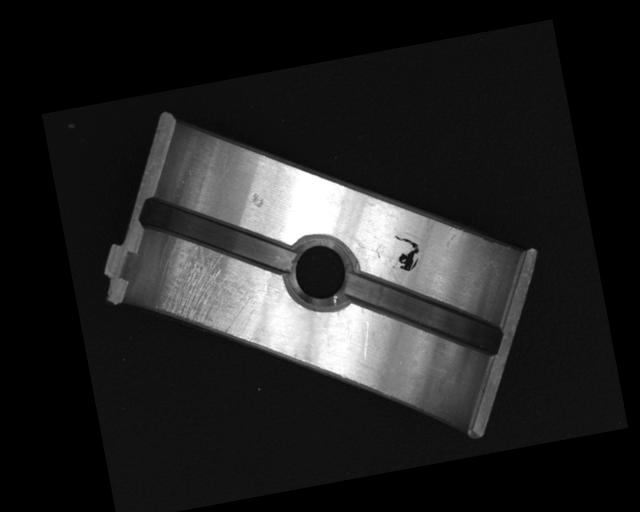blot: (391, 230, 424, 275)
bruise: (246, 189, 266, 210)
gap: (345, 251, 510, 378), (137, 175, 294, 293)
hole: (280, 229, 364, 316)
nick: (357, 321, 374, 362)
scratch: (145, 230, 267, 350)
